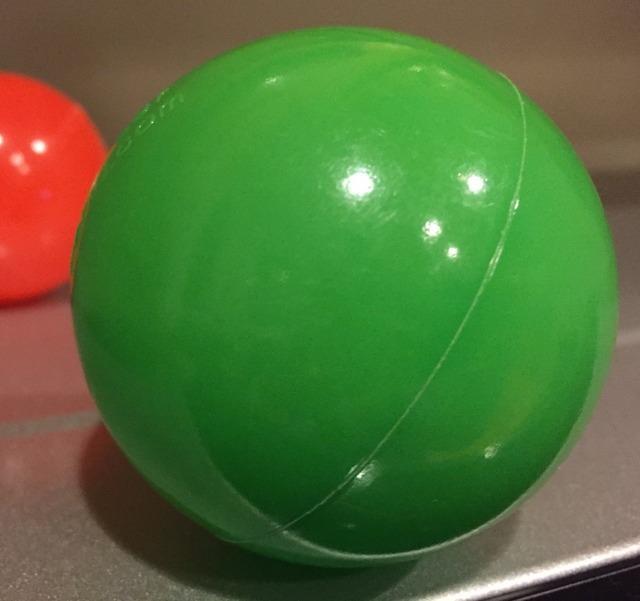Ball: (64, 27, 620, 563)
